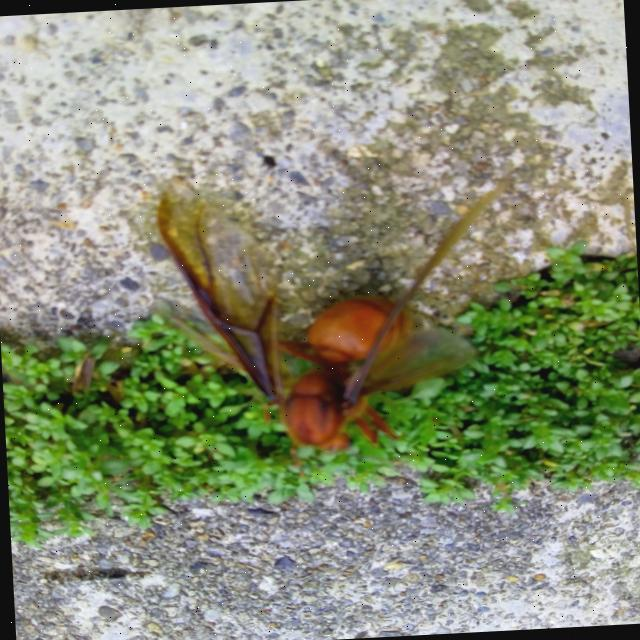Dead-Male-Alate: (152, 156, 527, 486)
